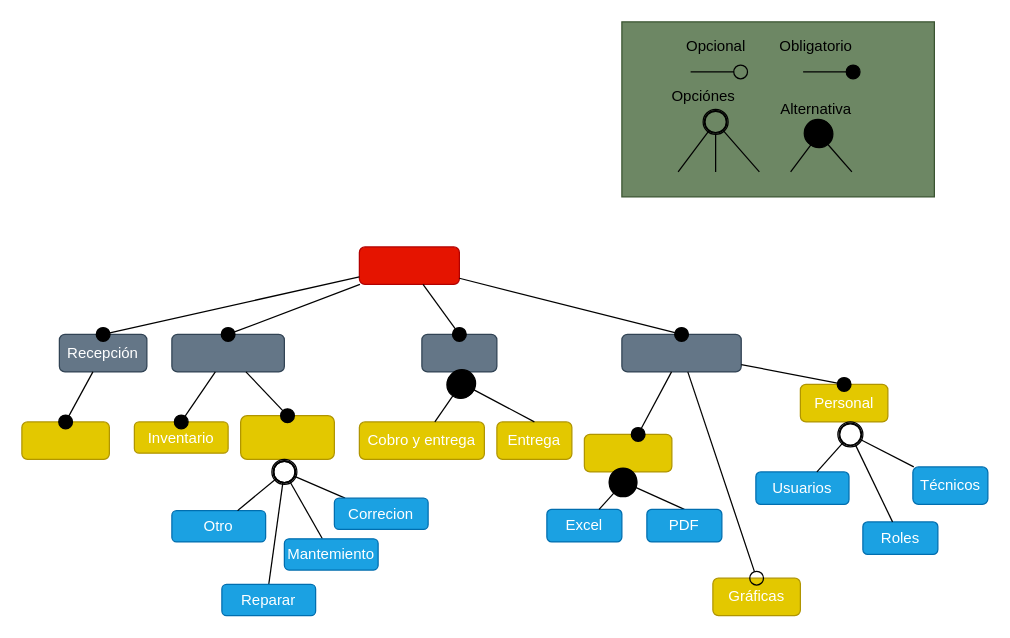
Image size: 1010x638. Some labels were removed from this diagram. The centre of each missing label's shape, as x and y in pixels:
Administración: point (681, 352)
Atender Servicios: point (286, 436)
Caja: point (459, 352)
Orden servicio: point (65, 440)
Reportes: point (627, 452)
ServiTec: point (408, 265)
Área técnica: point (227, 352)
